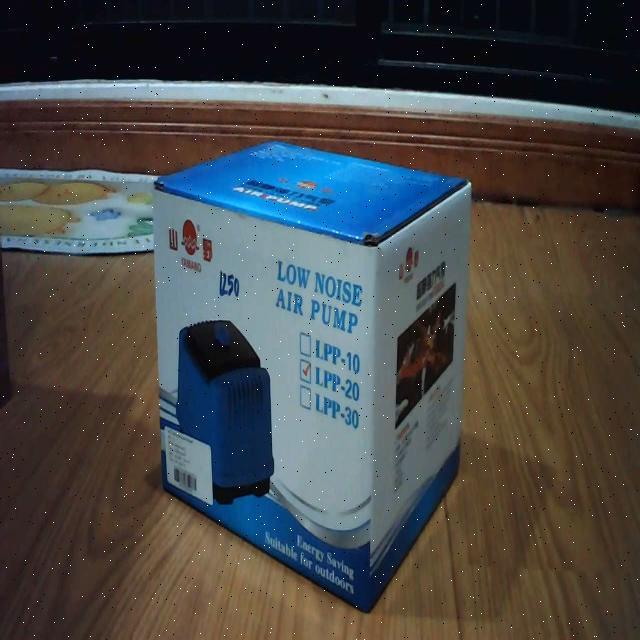YAMANO_LPP_20: (146, 125, 482, 616)
